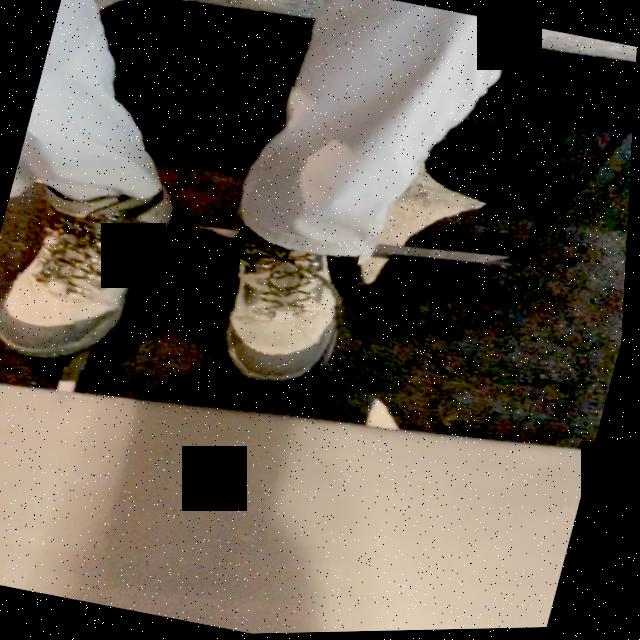shoe: (0, 189, 176, 368), (227, 226, 342, 390)
